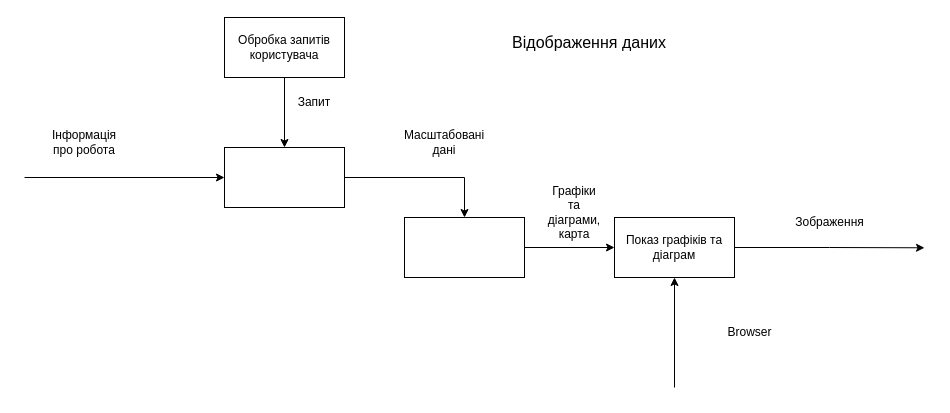
This 950x413 diagram has some shape labels left out. The box of each missing label's shape, as (x1, y1, x2, y2) in pixels:
Будування графіків та діаграм: (404, 216, 524, 278)
Підготовка діапазонів відображення даних: (224, 146, 344, 208)
